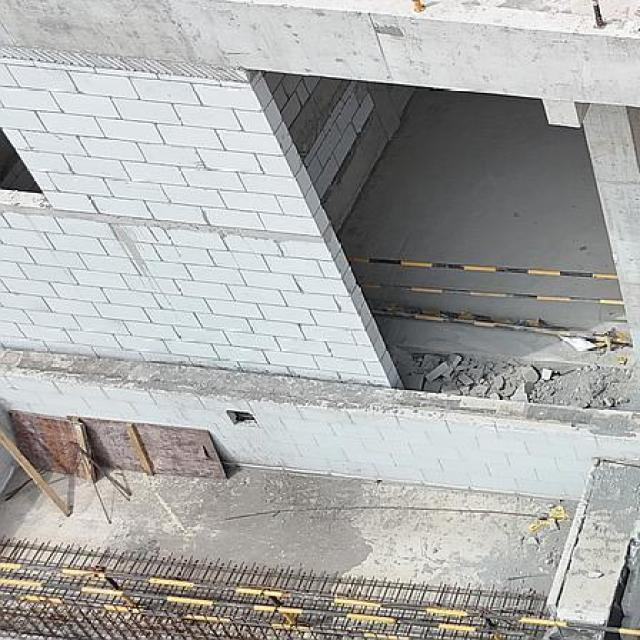edge_guardrail: (0, 558, 640, 640), (348, 256, 631, 344)
